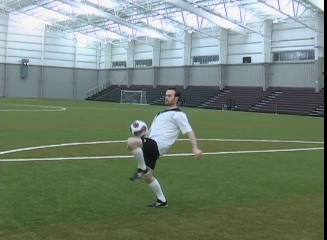person: (122, 86, 202, 210)
